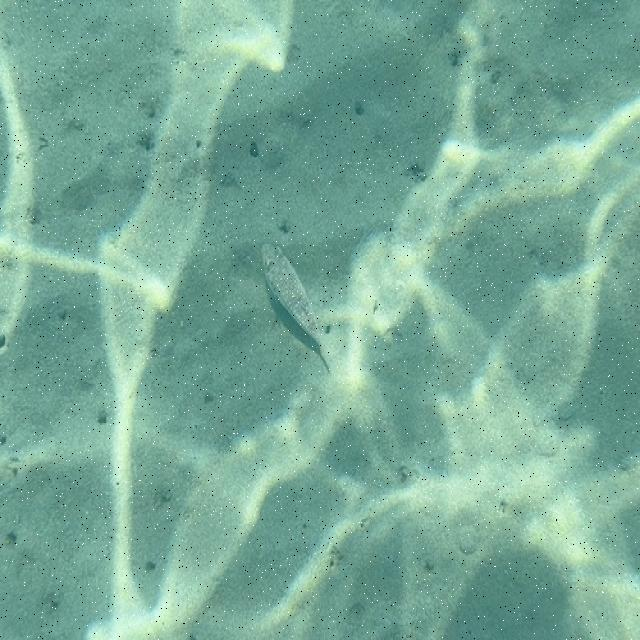Balik: (263, 245, 328, 370)
